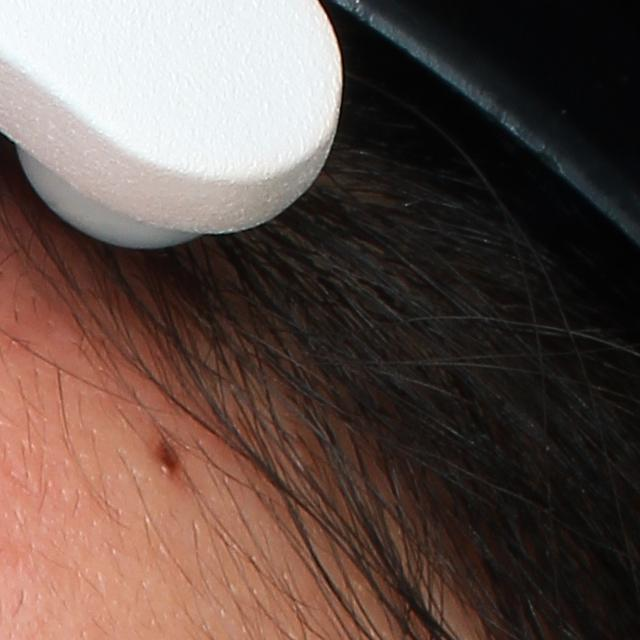nevus: (150, 427, 193, 485)
